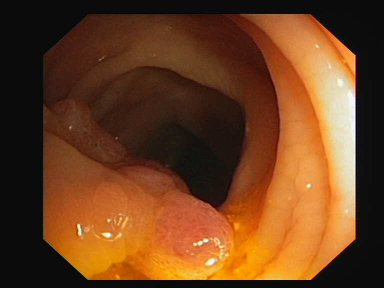polyp: (142, 160, 253, 266), (75, 177, 153, 248)
